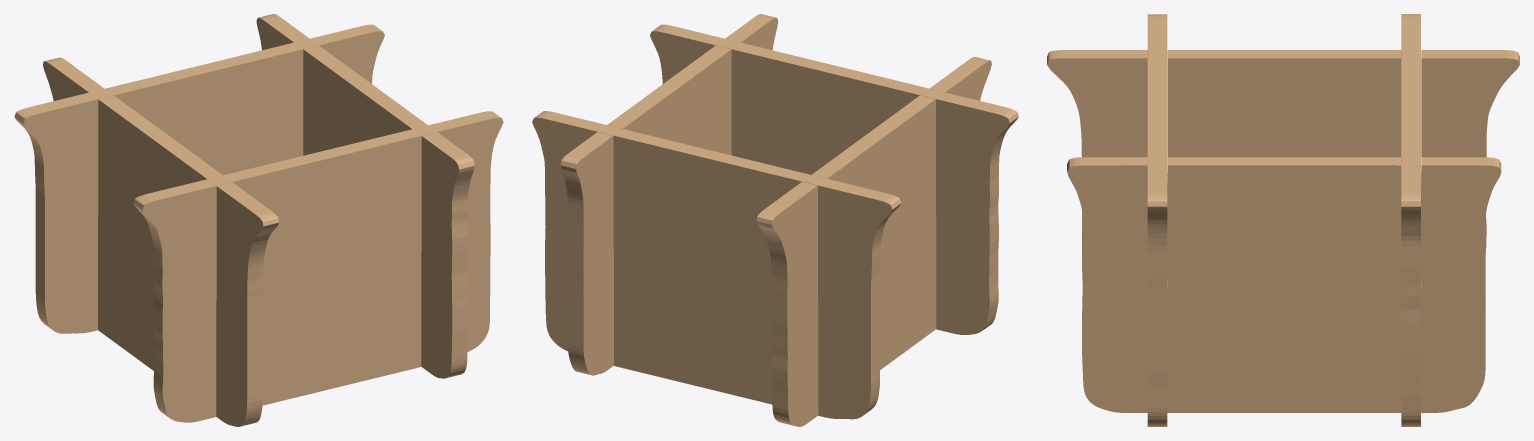
File: samla.glb
The picture shows the model from 3 angles, left to right: view 1: azimuth 30°, elevation 25°; view 2: azimuth 150°, elevation 25°; view 3: azimuth 270°, elevation 25°; orthographic projection. The views are drawn at different scales.
Parts seen in each view (by area): view 1: slicer-hattfot; view 2: slicer-hattfot; view 3: slicer-hattfot.
Part boxes in pixels (left/top/right/bottom): slicer-hattfot: left=14, top=14, right=503, bottom=426; slicer-hattfot: left=532, top=14, right=1018, bottom=426; slicer-hattfot: left=1047, top=14, right=1519, bottom=426.
Bounding box in the file's own units: 0.0917 × 0.056 × 0.0969.
